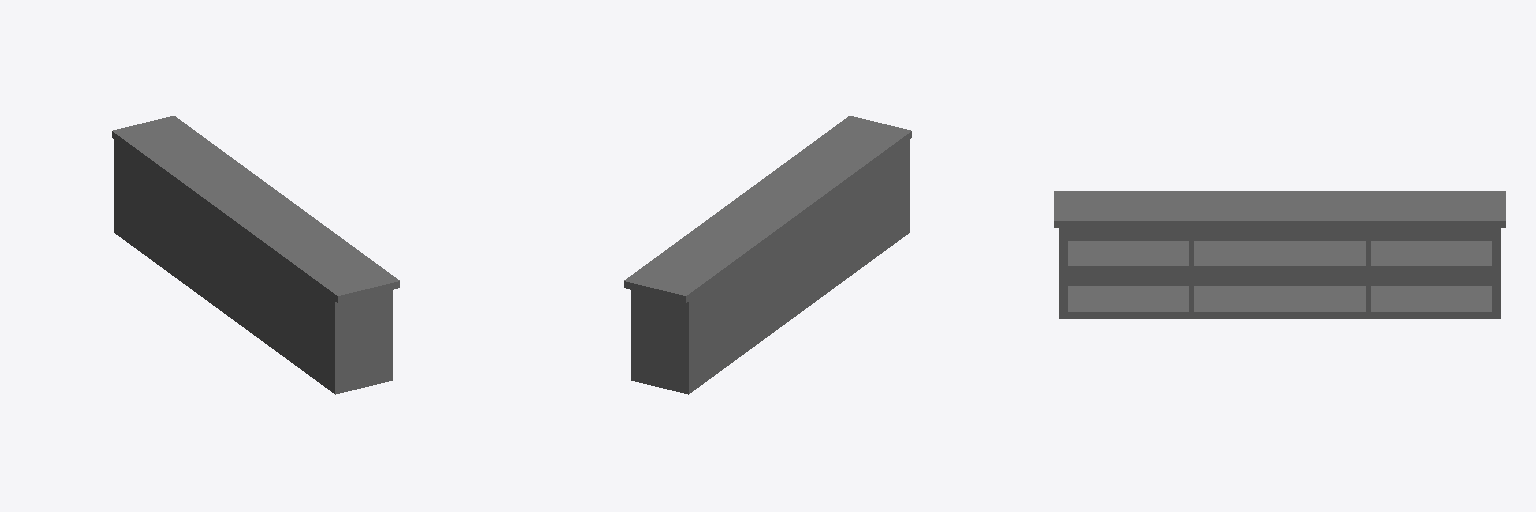
The model's file is shelf.obj.
The picture shows the model from 3 angles: view 1: azimuth 30°, elevation 25°; view 2: azimuth 150°, elevation 25°; view 3: azimuth 270°, elevation 25°; orthographic projection.
Parts seen in each view (by area): view 1: bookshelf bookshelf; view 2: bookshelf bookshelf; view 3: bookshelf bookshelf.
Part boxes in pixels (bbox=[...]): bookshelf bookshelf: bbox=[112, 116, 399, 394]; bookshelf bookshelf: bbox=[624, 116, 911, 394]; bookshelf bookshelf: bbox=[1054, 191, 1505, 318].
Bounding box in the file's own units: 13.06 × 20 × 81.77.